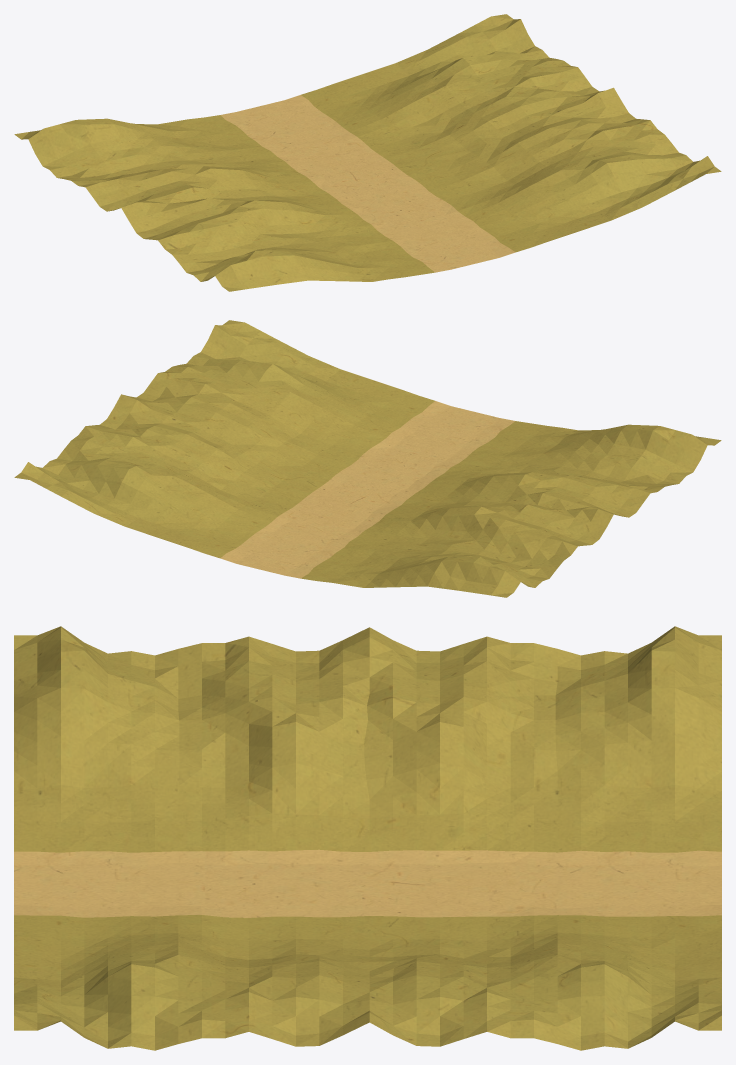
The model's file is part_road.fbx.
3 renders of one model, top to bottom at view 1: azimuth 30°, elevation 25°; view 2: azimuth 150°, elevation 25°; view 3: azimuth 270°, elevation 25°, orthographic. The views are drawn at different scales.
Parts seen in each view (by area): view 1: Landscape; view 2: Landscape; view 3: Landscape.
Part boxes in pixels (left/top/right/bottom): Landscape: left=14, top=14, right=721, bottom=291; Landscape: left=14, top=320, right=721, bottom=597; Landscape: left=14, top=626, right=721, bottom=1050.
Size of the model in its own units: 531 by 47.1 by 402.
1 material, 1 textured.
